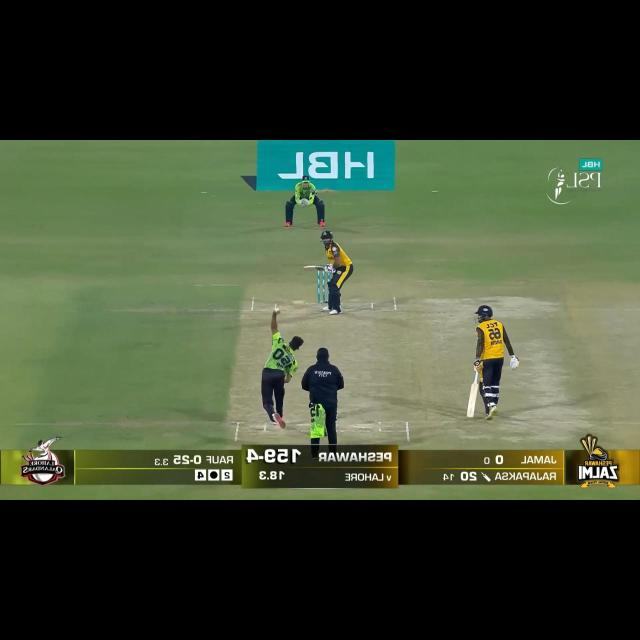bat: (466, 384, 478, 418), (303, 265, 327, 273)
toe: (466, 412, 477, 419), (302, 265, 308, 273)
